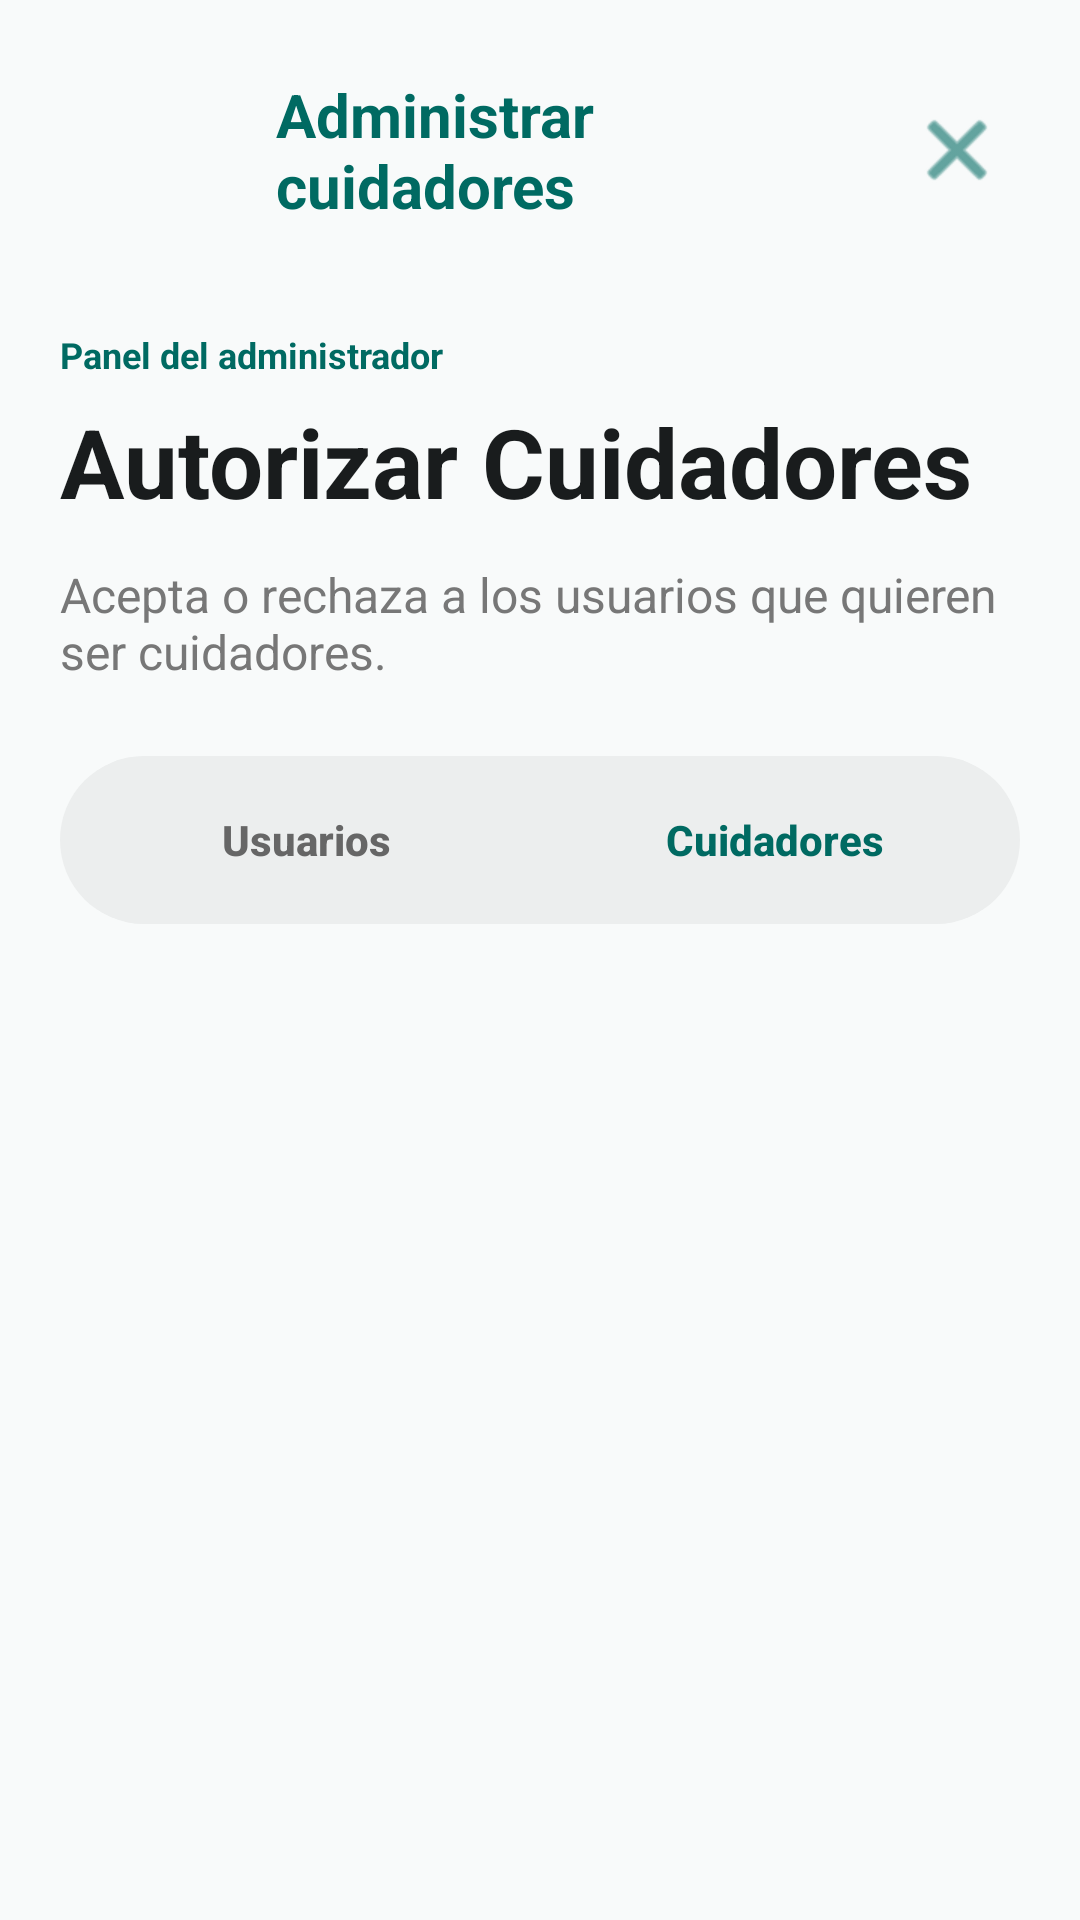

Screen size 1080px x 1920px. Icon name, then its box in pixels as (x1, y1, x2, y2):
close clear cancel: (927, 120, 987, 180)
